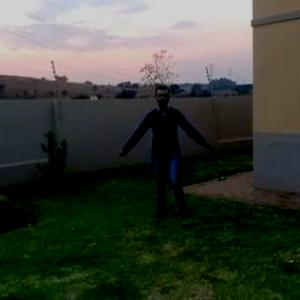land: (108, 80, 215, 218)
